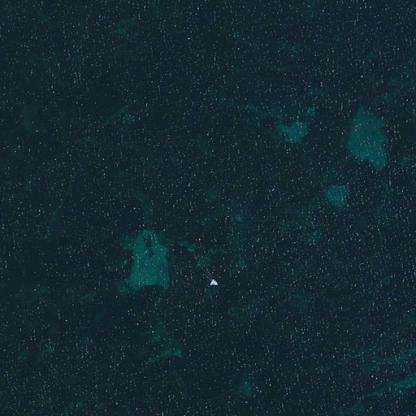ship: (207, 276, 218, 288)
